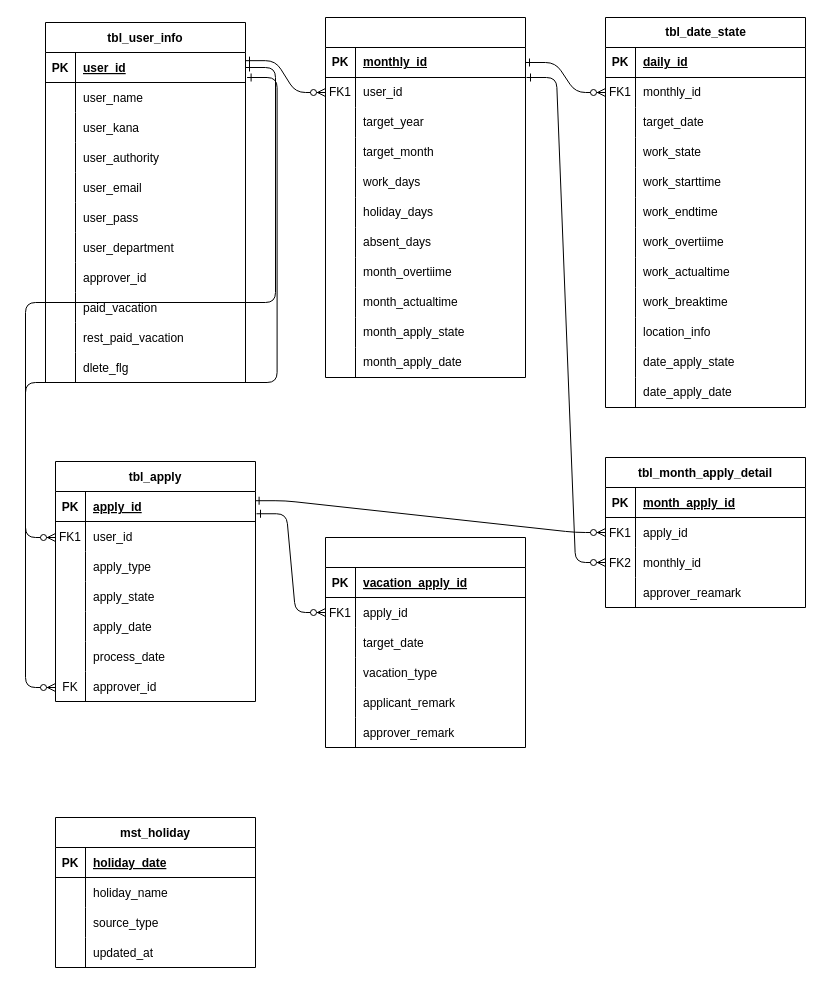
Image size: 823x985. Some labels were removed from this diagram. The box of each missing label's shape, as (x1, y1, x2, y2) in pixels:
tbl_month_state: (324, 16, 526, 378)
tbl_vacation_apply_detail: (324, 536, 526, 748)
